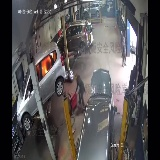fire: (36, 52, 57, 78)
